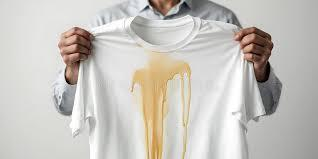coffee: (133, 59, 192, 159)
